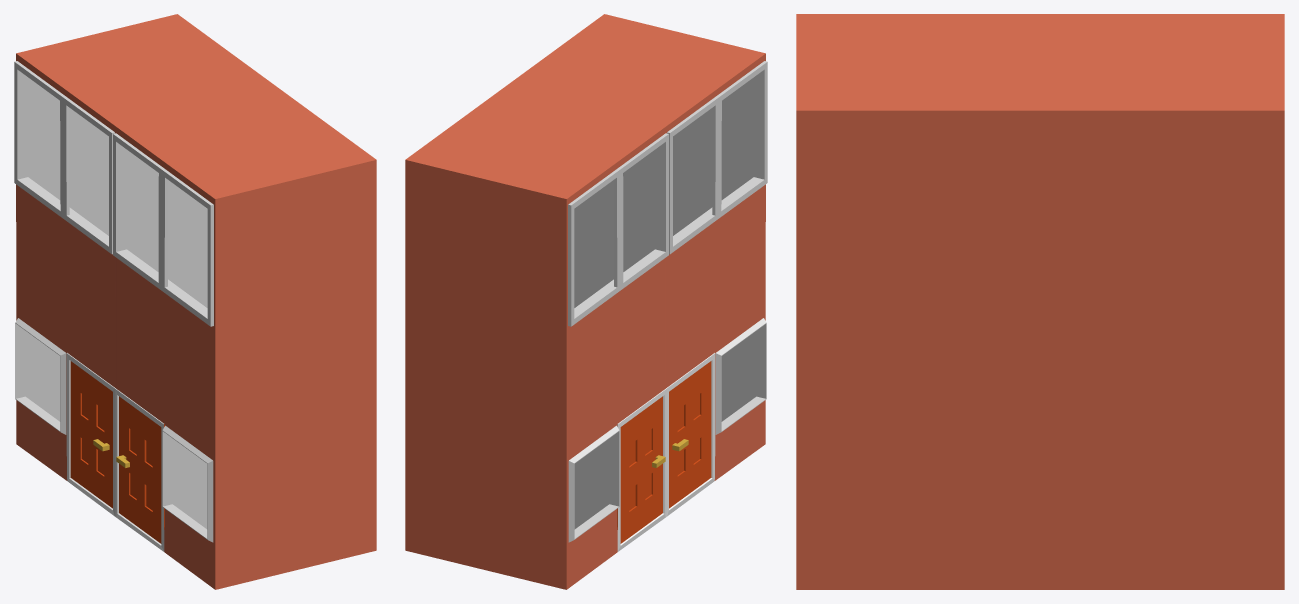
The model's file is street.fbx.
The picture shows the model from 3 angles, left to right: view 1: azimuth 30°, elevation 25°; view 2: azimuth 150°, elevation 25°; view 3: azimuth 270°, elevation 25°; orthographic projection. The views are drawn at different scales.
Visible parts, largest first — view 1: Cube; view 2: Cube; view 3: Cube.
Boxes of the visible parts, left/top/right/bottom form: Cube: left=14, top=14, right=376, bottom=589; Cube: left=405, top=14, right=767, bottom=589; Cube: left=796, top=14, right=1284, bottom=589.
Bounding box in the file's own units: 317 × 706 × 652.
